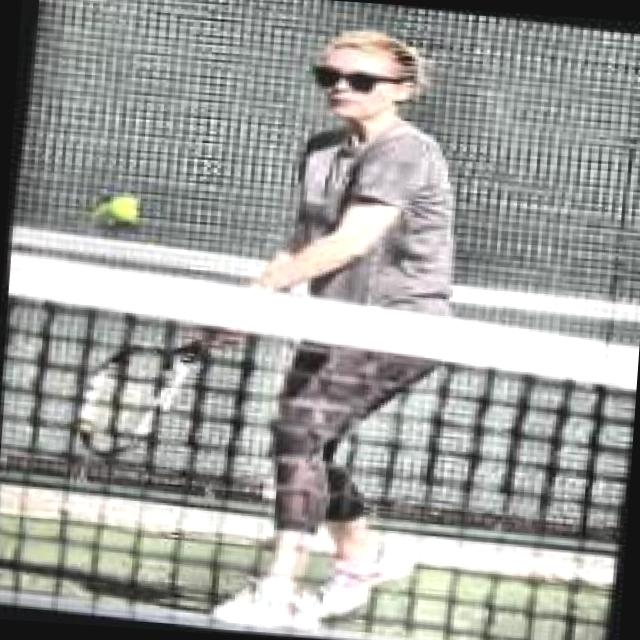Tennis Ball: (92, 192, 138, 233)
